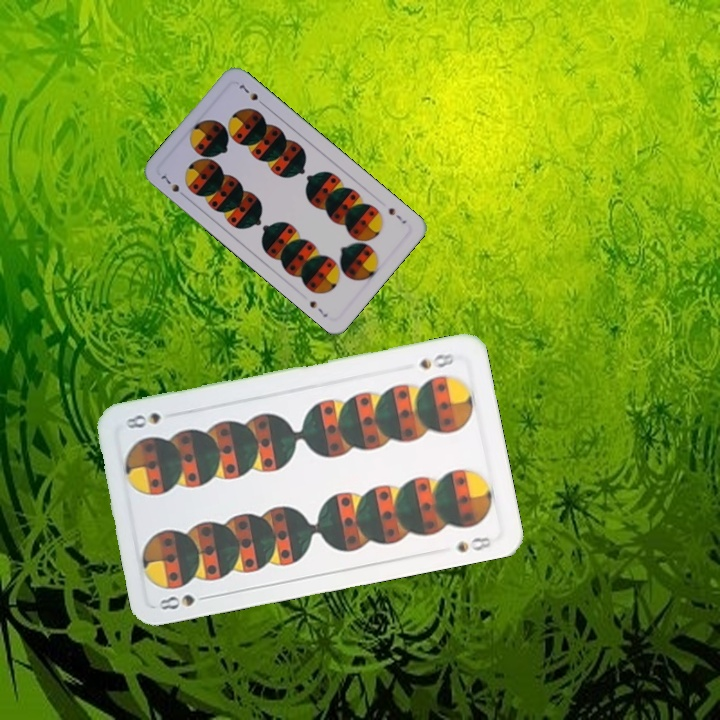S7: (156, 171, 189, 201), (384, 203, 409, 226)
S8: (155, 590, 214, 613), (415, 349, 458, 372)
